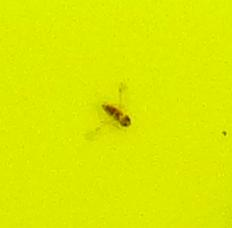Hemiptera: (100, 100, 132, 128)
